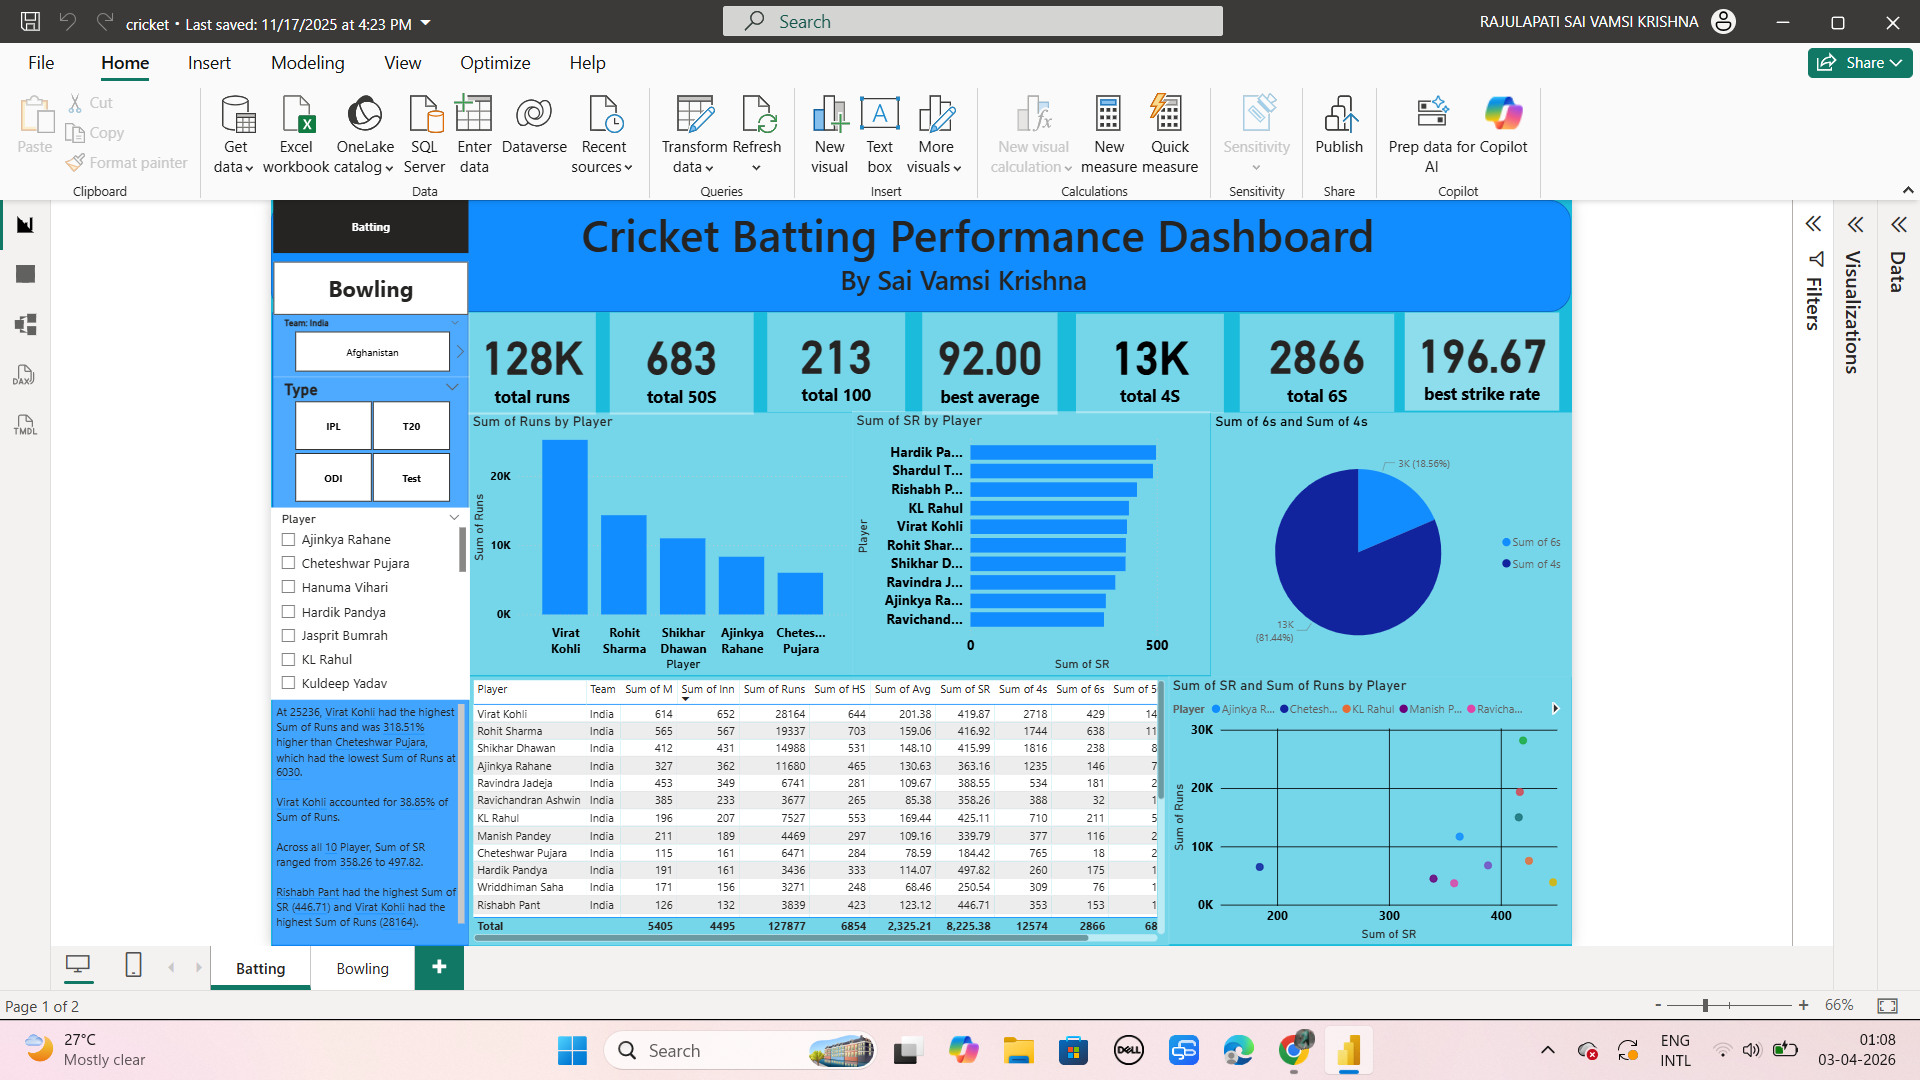

The page's visual inventory and layout, read from the dashboard file:
{"tool":"powerbi","page":{"name":"Batting","canvas":[1570,900],"ordinal":0},"visuals":[{"type":"shape","box":[0,0,1568.3,135],"z":0},{"type":"shape","box":[1.7,135,236.7,765],"z":1000},{"type":"card","fields":{"Values":["bat.total runs"]},"box":[238.3,135,153.3,123.3],"z":2000},{"type":"card","fields":{"Values":["bat.total 100"]},"box":[598.3,135,166.7,120],"z":3000},{"type":"card","fields":{"Values":["bat.total 4S"]},"box":[971.7,136.7,178.3,120],"z":4000},{"type":"card","fields":{"Values":["bat.total 50S"]},"box":[408.3,135,173.3,123.3],"z":5000},{"type":"card","fields":{"Values":["bat.total 6S"]},"box":[1168.3,136.7,186.7,118.3],"z":6000},{"type":"card","fields":{"Values":["bat.best strike rate"]},"box":[1368.3,135,186.7,118.3],"z":7000},{"type":"card","fields":{"Values":["bat.best average"]},"box":[785,135,163.3,123.3],"z":8000},{"type":"clusteredColumnChart","fields":{"Category":["bat.Player"],"Y":["Sum(bat.Runs)"]},"box":[238.3,256.7,463.3,316.7],"z":9000},{"type":"clusteredBarChart","fields":{"Category":["bat.Player"],"Y":["Sum(bat.SR)"]},"box":[701.7,255,431.7,318.3],"z":10000},{"type":"pieChart","fields":{"Y":["Sum(bat.6s)","Sum(bat.4s)"]},"box":[1133.3,256.7,436.7,318.3],"z":11000},{"type":"scatterChart","fields":{"X":["Sum(bat.SR)"],"Y":["Sum(bat.Runs)"],"Series":["bat.Player"]},"box":[1083.3,575,486.7,323.3],"z":12000},{"type":"slicer","fields":{"Values":["bat.Player"]},"box":[0,371.7,240,231.7],"z":13000},{"type":"tableEx","fields":{"Values":["bat.Player","bat.Team","Sum(bat.M)","Sum(bat.Inn)","Sum(bat.Runs)","Sum(bat.HS)","Sum(bat.Avg)","Sum(bat.SR)","Sum(bat.4s)","Sum(bat.6s)","Sum(bat.50)","Sum(bat.100)"]},"box":[238.3,575,845,325],"z":14000},{"type":"slicer","fields":{"Values":["bat.Team"]},"box":[3.3,136.7,236.7,76.7],"z":15000},{"type":"slicer","fields":{"Values":["bat.Type"]},"box":[3.3,213.3,236.7,158.3],"z":16000},{"type":"textbox","box":[1.7,603.3,236.7,295],"z":16001},{"type":"pageNavigator","box":[3.3,0,235,138.3],"z":16002},{"type":"textbox","box":[370,0,981.7,85],"z":16003},{"type":"textbox","box":[303.3,70,1065,83.3],"z":16004}]}

Visuals, with their boxes on the page's 1570x900 design canvas (x1, y1, x2, y2). These are canvas units, not pixel positions in the 1920x1080 screenshot, which may show the page scaled, cropped or inside an application window:
shape: box=[0, 0, 1568, 135]
shape: box=[2, 135, 238, 900]
card - bat.total runs: box=[238, 135, 392, 258]
card - bat.total 100: box=[598, 135, 765, 255]
card - bat.total 4S: box=[972, 137, 1150, 257]
card - bat.total 50S: box=[408, 135, 582, 258]
card - bat.total 6S: box=[1168, 137, 1355, 255]
card - bat.best strike rate: box=[1368, 135, 1555, 253]
card - bat.best average: box=[785, 135, 948, 258]
clusteredColumnChart - bat.Player x Sum(bat.Runs): box=[238, 257, 702, 573]
clusteredBarChart - bat.Player x Sum(bat.SR): box=[702, 255, 1133, 573]
pieChart - Sum(bat.6s) x Sum(bat.4s): box=[1133, 257, 1570, 575]
scatterChart - Sum(bat.SR) x Sum(bat.Runs): box=[1083, 575, 1570, 898]
slicer - bat.Player: box=[0, 372, 240, 603]
tableEx - bat.Player x bat.Team: box=[238, 575, 1083, 900]
slicer - bat.Team: box=[3, 137, 240, 213]
slicer - bat.Type: box=[3, 213, 240, 372]
textbox: box=[2, 603, 238, 898]
pageNavigator: box=[3, 0, 238, 138]
textbox: box=[370, 0, 1352, 85]
textbox: box=[303, 70, 1368, 153]
